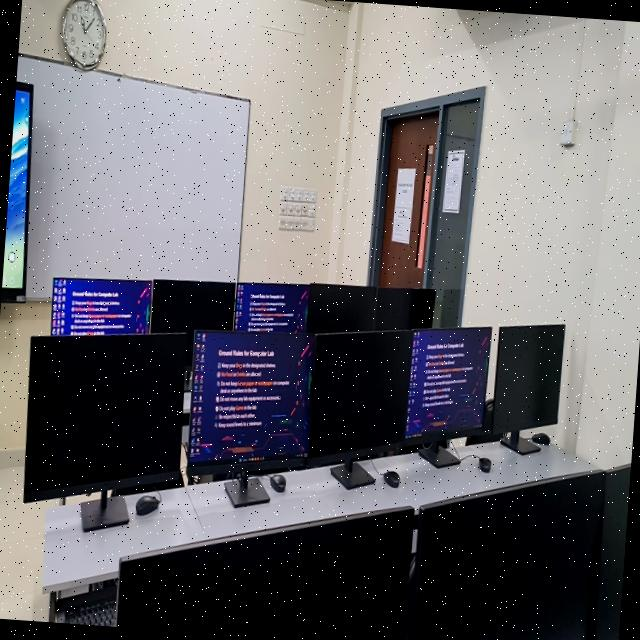Digital board: (1, 84, 32, 301)
Keyboard: (55, 582, 116, 626)
Light: (116, 506, 413, 640)
Monitor: (116, 506, 413, 640), (405, 470, 605, 640), (24, 334, 185, 528), (189, 332, 314, 464), (307, 331, 412, 461), (406, 327, 491, 437), (490, 325, 564, 433), (150, 279, 235, 366), (594, 465, 631, 640), (50, 277, 152, 335), (234, 283, 309, 332), (306, 283, 376, 333), (374, 287, 434, 329)
Mouse: (135, 494, 160, 516), (383, 470, 399, 487), (270, 474, 285, 492), (531, 432, 549, 445), (478, 457, 491, 472)
